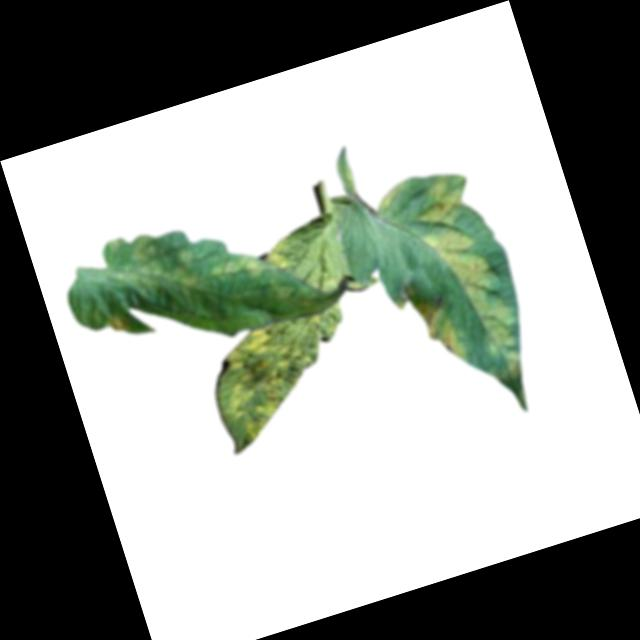Leaf_Mold: (403, 163, 540, 423), (198, 301, 374, 452), (105, 217, 207, 313), (391, 269, 470, 376), (210, 245, 264, 294), (258, 234, 297, 276), (106, 312, 134, 339)
